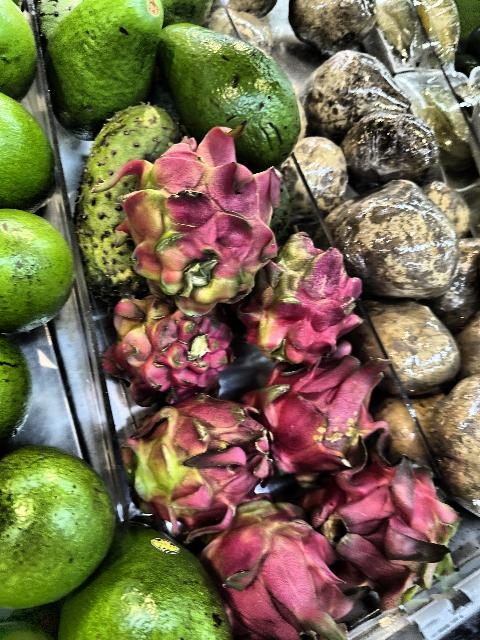buah-naga-belum-matang: (103, 133, 287, 307), (115, 411, 279, 517), (245, 235, 363, 358), (102, 298, 234, 398)
buah-naga-matang: (199, 500, 359, 640), (298, 469, 464, 596), (244, 364, 406, 466)
